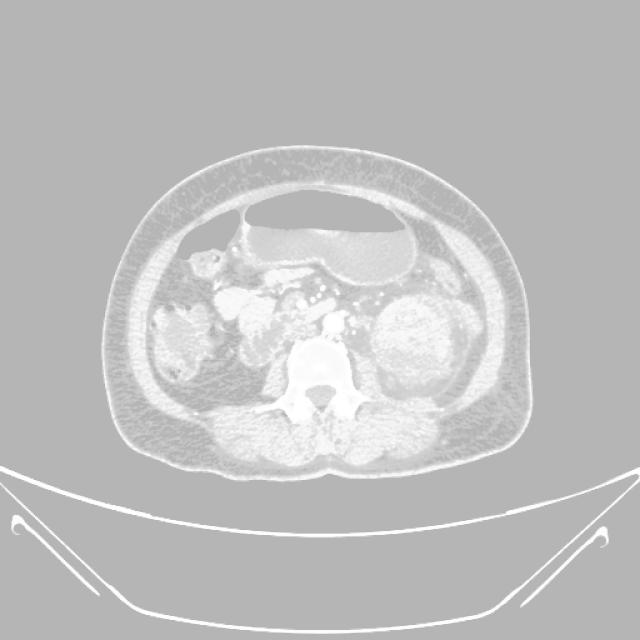TUMOR: (54, 252, 477, 399)
